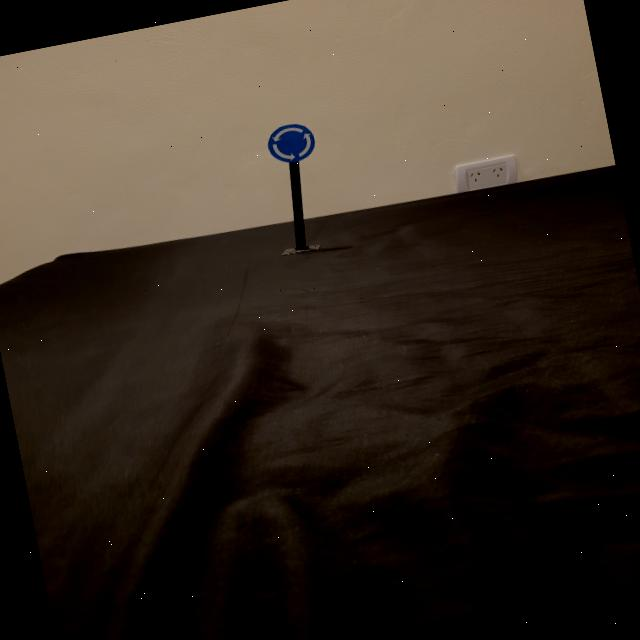round_about: (264, 120, 319, 167)
